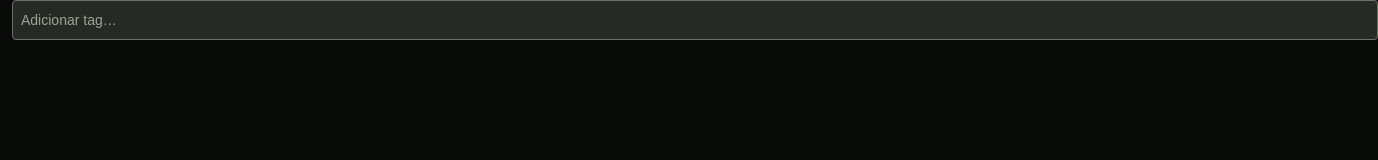
Test case: <TagInput /> › adiciona com Enter, normalizando para minúsculas
Step 1. Type "  Machine   Learning " into the field → point(695, 20), box x1=21 y1=8 x2=1369 y2=32
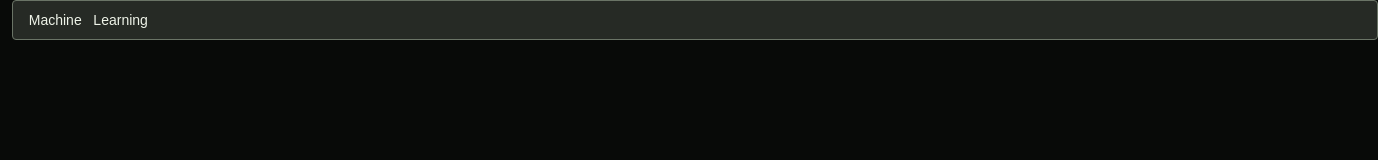
Step 2. Press Enter in the field, box x1=21 y1=8 x2=1369 y2=32
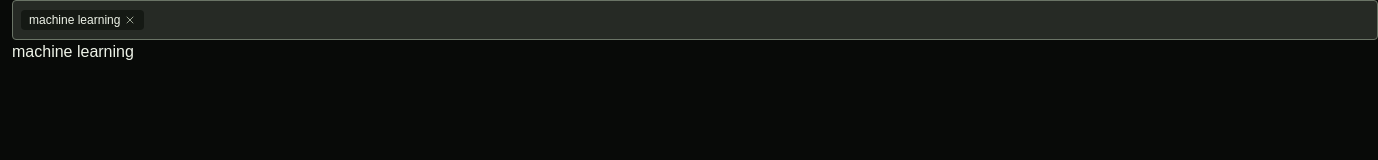
Now the element showing "machine learning" is shown, box x1=21 y1=10 x2=144 y2=30
